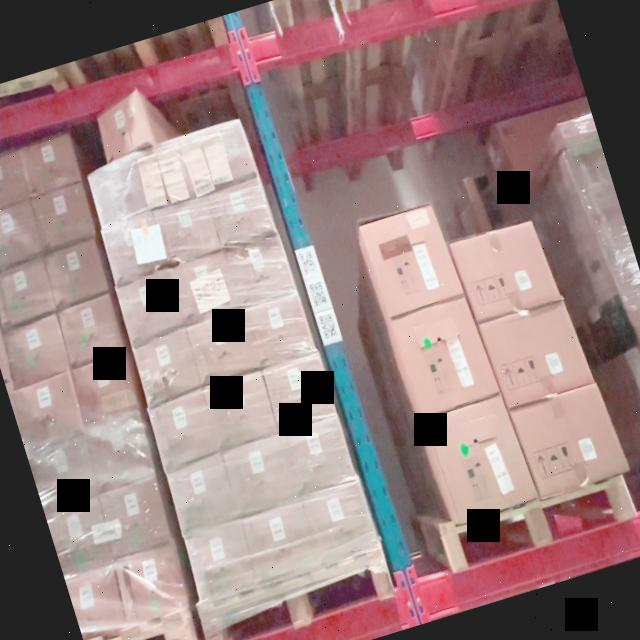box: (428, 402, 532, 514), (394, 300, 496, 414), (516, 388, 624, 490), (484, 302, 591, 402), (362, 210, 458, 314), (453, 223, 556, 319), (244, 505, 318, 581), (222, 436, 296, 511), (184, 522, 256, 599), (166, 456, 237, 534), (148, 396, 220, 468), (206, 374, 277, 446), (263, 354, 334, 426), (134, 330, 202, 405), (117, 272, 186, 342), (225, 236, 294, 304), (284, 419, 352, 488), (135, 139, 200, 211), (188, 124, 256, 192), (244, 293, 312, 361), (99, 218, 169, 283), (189, 312, 255, 380), (205, 180, 272, 242), (89, 158, 152, 222), (92, 94, 158, 154), (306, 488, 372, 548), (171, 256, 235, 317), (156, 198, 218, 260)
